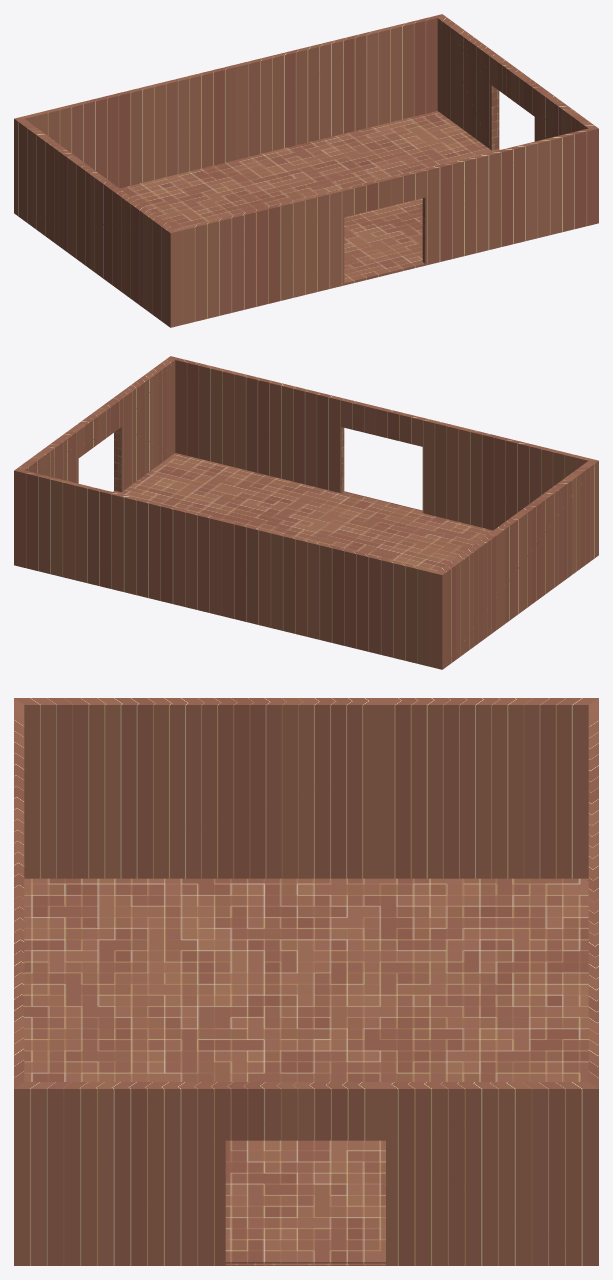
Rendered from StartRoom.obj.
The picture shows the model from 3 angles, top to bottom: view 1: azimuth 30°, elevation 25°; view 2: azimuth 150°, elevation 25°; view 3: azimuth 270°, elevation 25°; orthographic projection. The views are drawn at different scales.
Visible parts, largest first — view 1: jorge.001, Plane; view 2: jorge.001, Plane; view 3: jorge.001, Plane.
Part boxes in pixels (x1,y1,x2,y2): jorge.001: (14,14,598,327); Plane: (120,111,499,283); jorge.001: (14,356,598,669); Plane: (113,453,492,571); jorge.001: (14,698,598,1265); Plane: (24,878,588,1263).
Size of the model in its own units: 28.35 by 5.99 by 17.94.
3 materials, 3 textured.
